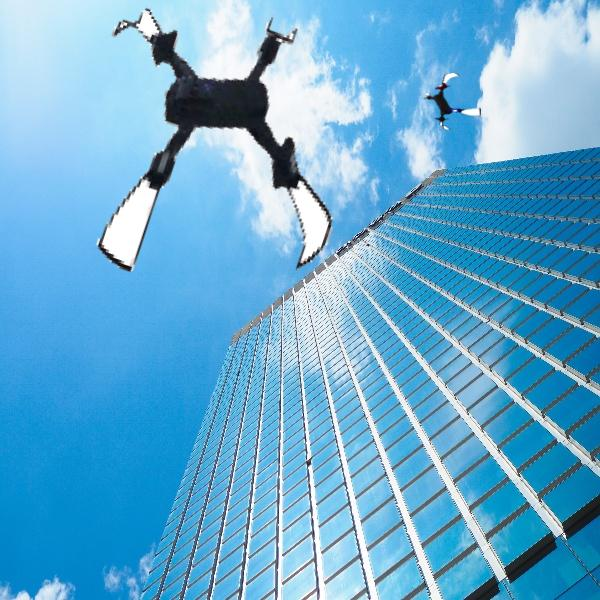drone: (72, 3, 371, 302), (421, 72, 482, 133)
